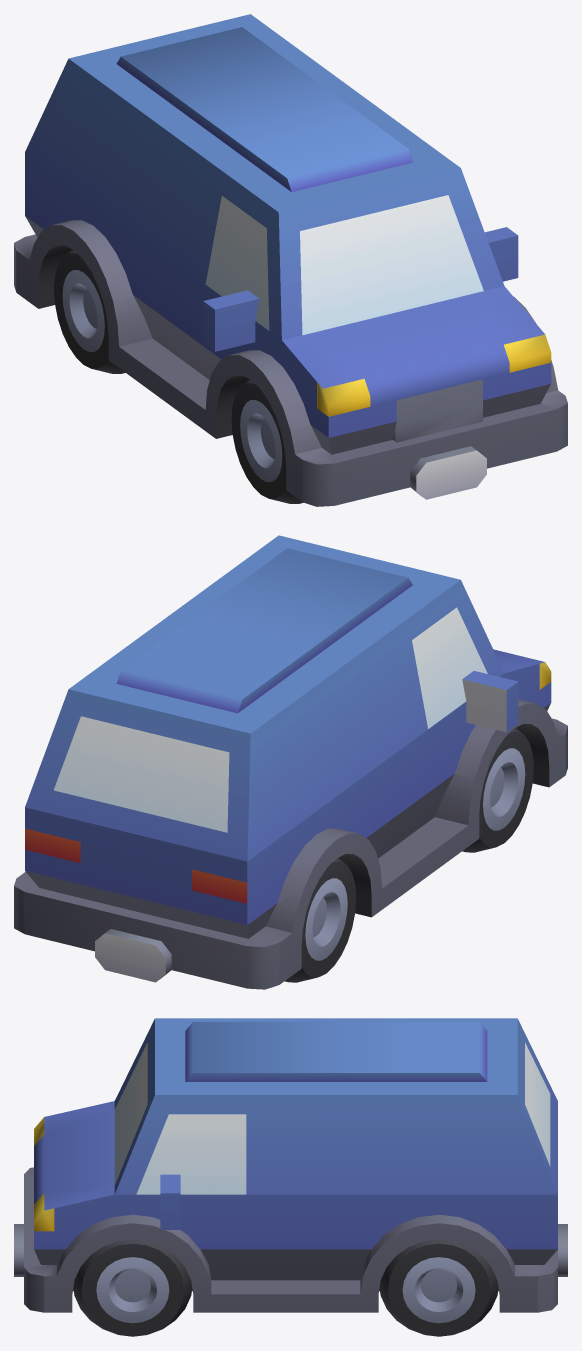
Rendered from skapbil.glb.
3 views of the same model, one above another, from view 1: azimuth 30°, elevation 25°; view 2: azimuth 150°, elevation 25°; view 3: azimuth 270°, elevation 25° (orthographic). The views are drawn at different scales.
Parts seen in each view (by area): view 1: body, wheel-front-right, wheel-back-right; view 2: body, wheel-back-right, wheel-front-right; view 3: body, wheel-front-left, wheel-back-left.
Boxes of the visible parts, bbox=[...] form: body: bbox=[14, 14, 567, 506]; wheel-front-right: bbox=[231, 379, 303, 503]; wheel-back-right: bbox=[54, 249, 125, 373]; body: bbox=[14, 535, 567, 989]; wheel-back-right: bbox=[285, 858, 356, 982]; wheel-front-right: bbox=[462, 728, 533, 852]; body: bbox=[14, 1018, 567, 1312]; wheel-front-left: bbox=[73, 1239, 192, 1336]; wheel-back-left: bbox=[379, 1239, 498, 1336].
Bounding box in the file's own units: 1.5 × 1.35 × 2.75.
Materials: 1 (1 with a texture image).
